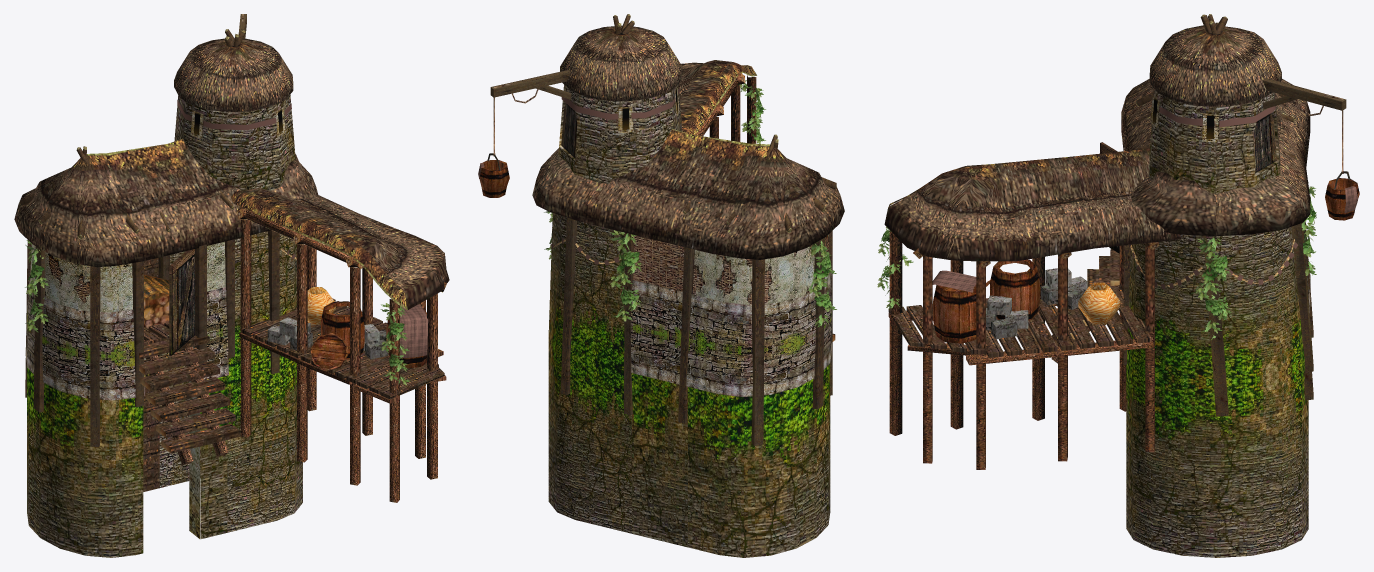
File: almacen.glb
3 renders of one model, left to right at view 1: azimuth 30°, elevation 25°; view 2: azimuth 150°, elevation 25°; view 3: azimuth 270°, elevation 25°, orthographic. The views are drawn at different scales.
Visible parts, largest first — view 1: Almacen, Plantas; view 2: Almacen, Plantas; view 3: Almacen, Plantas.
Part boxes in pixels (bbox=[...]): Almacen: bbox=[14, 14, 449, 557]; Plantas: bbox=[25, 240, 410, 385]; Almacen: bbox=[478, 14, 844, 557]; Plantas: bbox=[544, 80, 836, 327]; Almacen: bbox=[884, 14, 1359, 557]; Plantas: bbox=[877, 182, 1316, 339].
Bounding box in the file's own units: 6.23 × 8.94 × 7.71.
2 materials, 2 textured.
